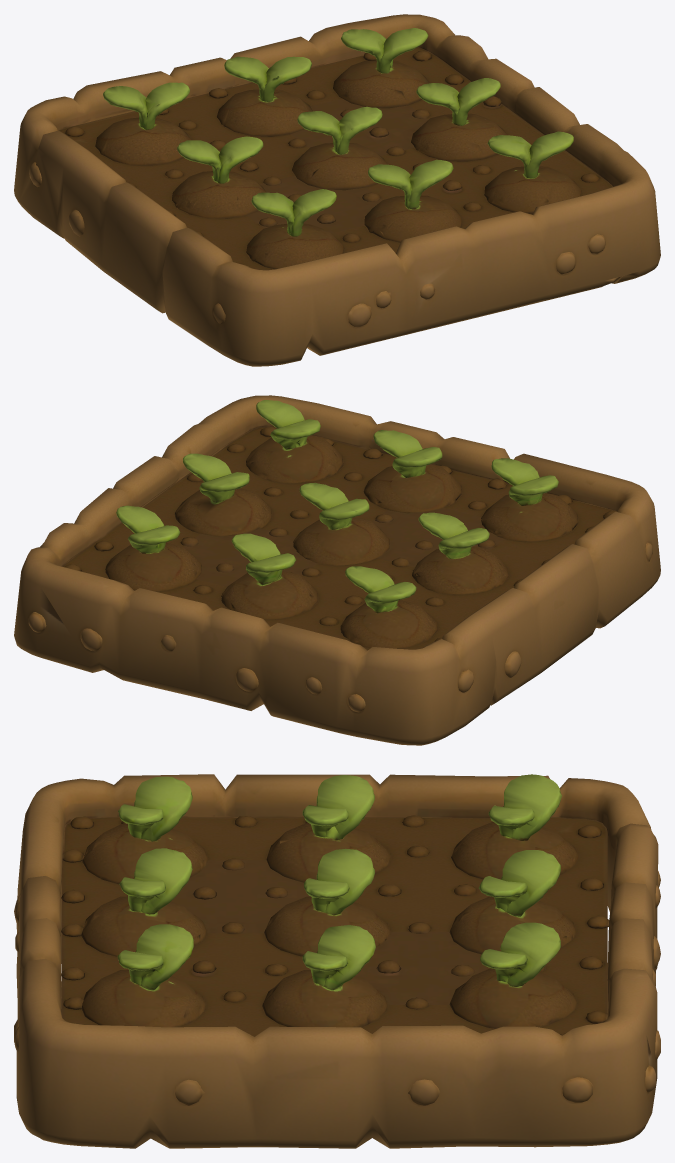
File: tripo_convert_2ffba348-fc15-438c-86a0-aed29c78b955.fbx
3 renders of one model, top to bottom at view 1: azimuth 30°, elevation 25°; view 2: azimuth 150°, elevation 25°; view 3: azimuth 270°, elevation 25°, orthographic. The views are drawn at different scales.
Parts seen in each view (by area): view 1: tripo_node_2ffba348; view 2: tripo_node_2ffba348; view 3: tripo_node_2ffba348.
Boxes of the visible parts, x1,y1,x2,y2 form: tripo_node_2ffba348: (14, 14, 660, 366); tripo_node_2ffba348: (14, 395, 660, 745); tripo_node_2ffba348: (14, 774, 660, 1148).
Bounding box in the file's own units: 0.998 × 0.252 × 0.998.
1 material, 1 textured.
